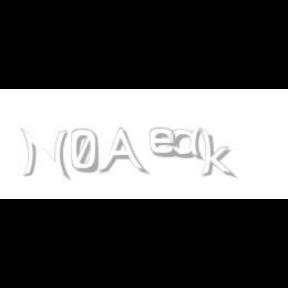0: (70, 128, 102, 174)
A: (98, 128, 146, 176)
N: (20, 128, 68, 180)
a: (170, 128, 208, 160)
e: (150, 128, 182, 158)
k: (199, 128, 237, 180)
